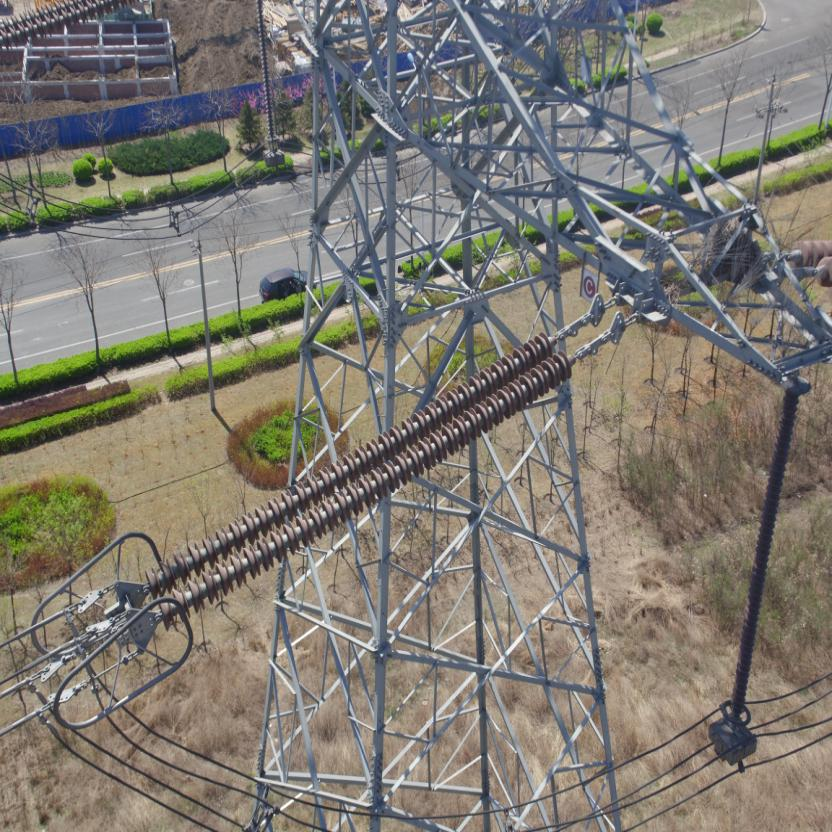insulator: (140, 322, 600, 634), (0, 0, 145, 53)
